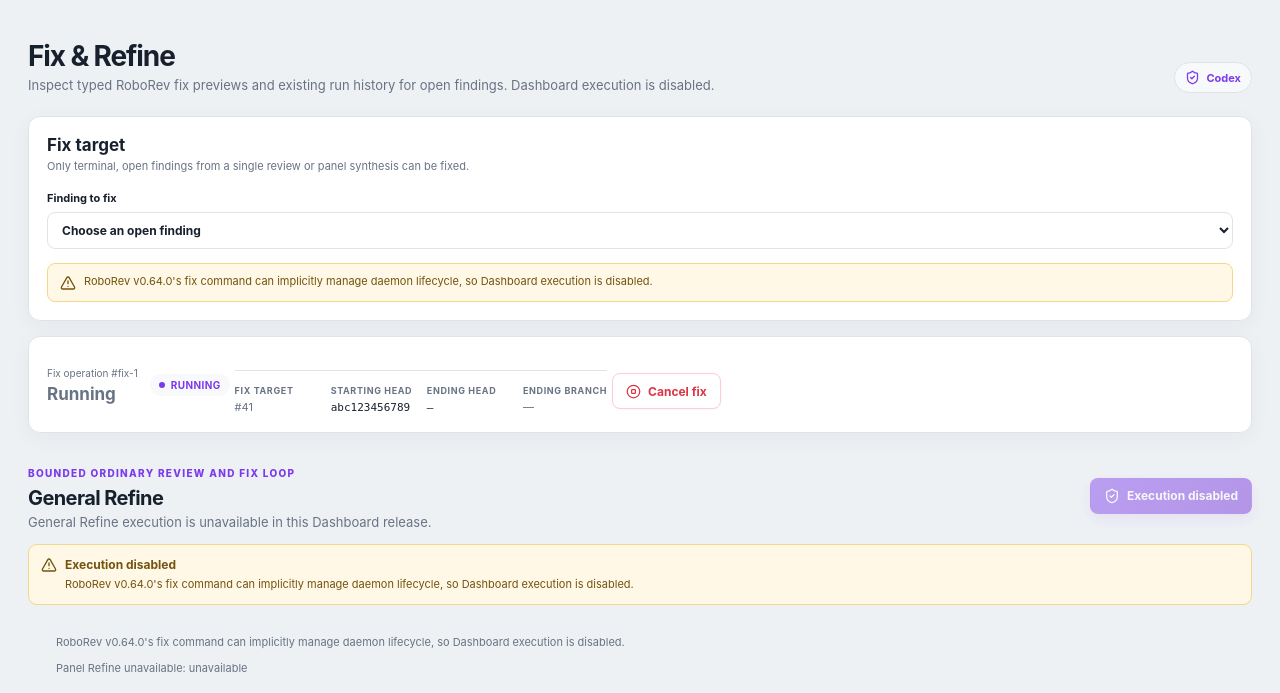
Test case: Fix & Refine frontend contract › refreshes authoritatively after cancellation reaches a terminal operation
Click the button "Cancel fix". click: (666, 391)
box: [612, 373, 721, 409]
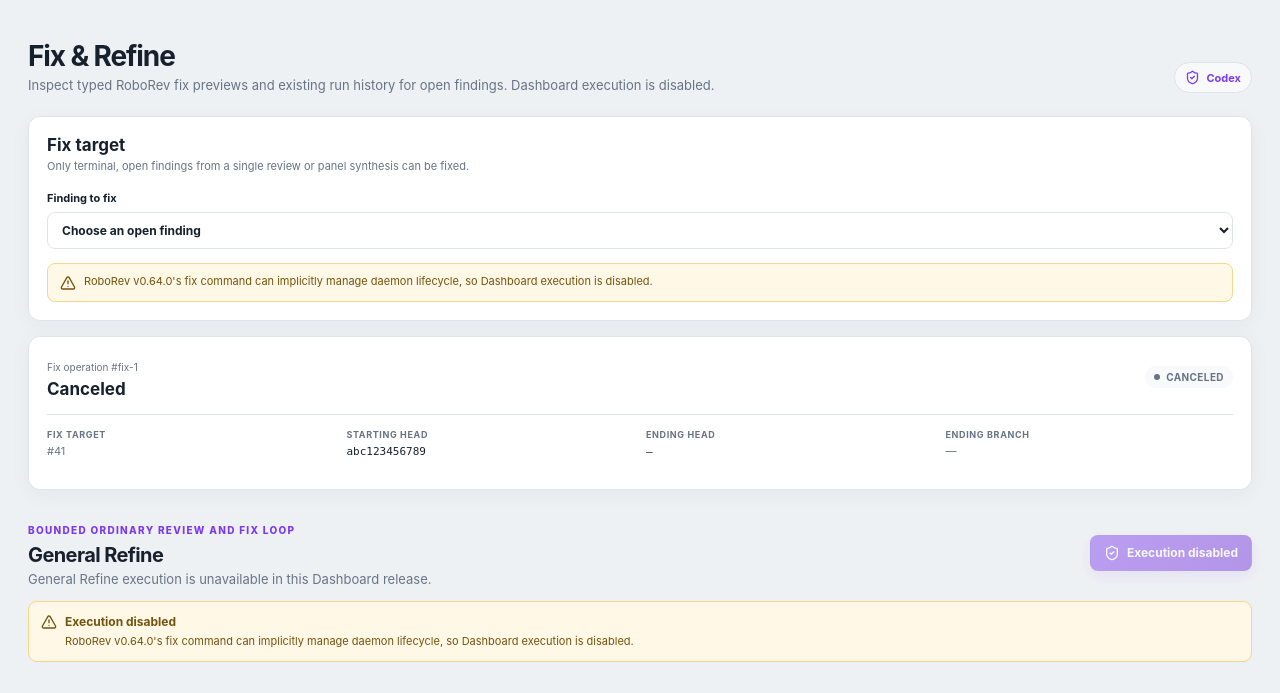
Check: the heading "Canceled" is shown, box [47, 379, 138, 399]
